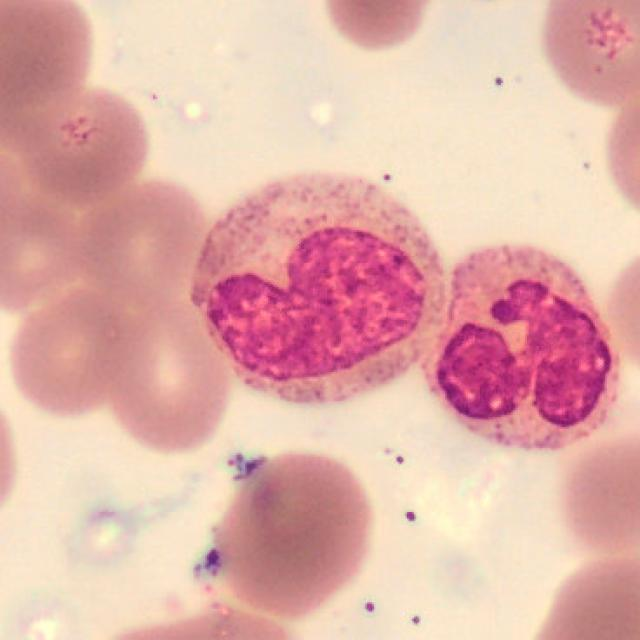Metamielocito: (190, 171, 449, 406)
Neutrofilo segmentado: (435, 246, 617, 451)
